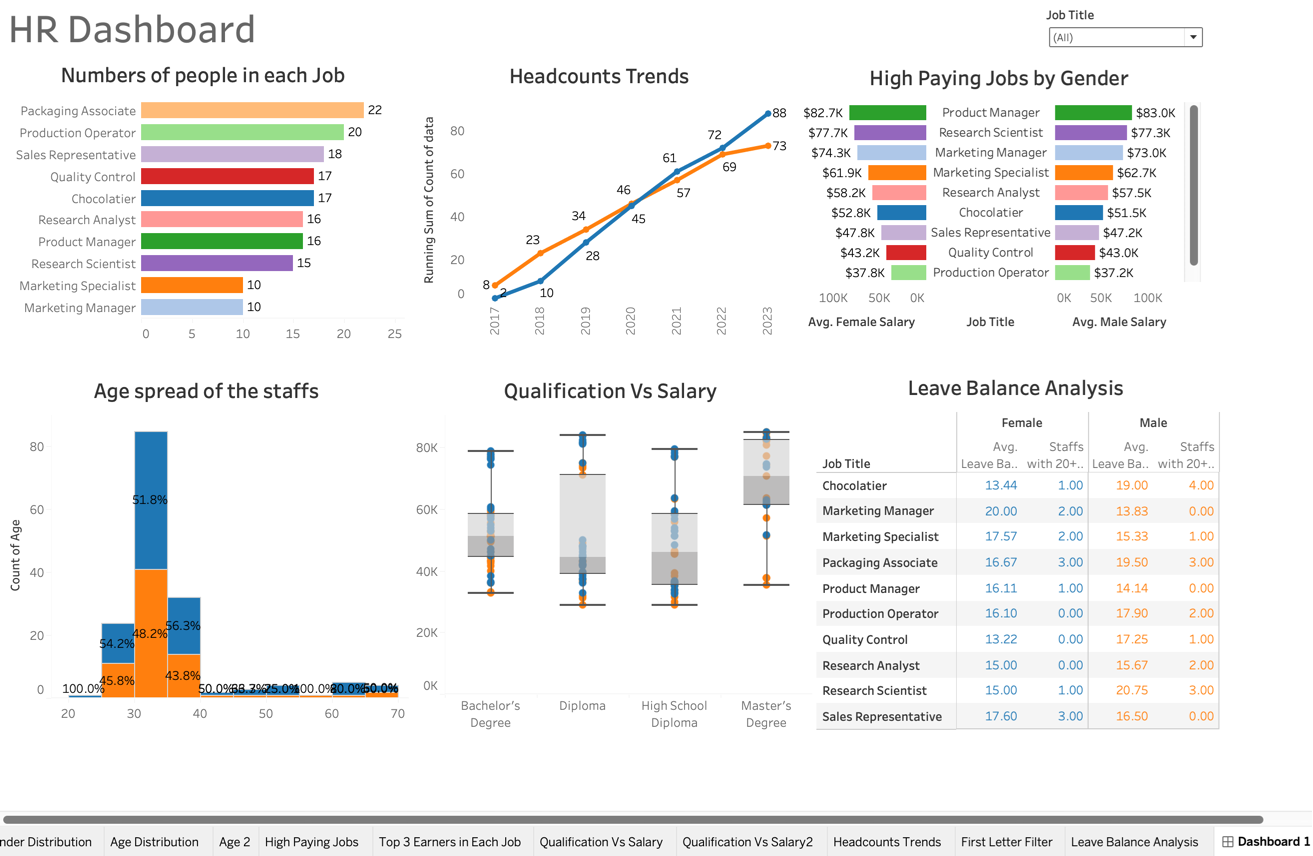

The page's visual inventory and layout, read from the dashboard file:
{"tool":"tableau","page":{"name":"Dashboard 1","canvas":[1600,900],"ordinal":0},"visuals":[{"type":"text","box":[5,2,807,56]},{"type":"filter","title":"# in each job","param":"[federated.0gq73kg0yulyes1d3sz5303nxn53].[none:Job Title:nk]","box":[1047,9,160,44]},{"type":"worksheet","title":"# in each job","mark":"Automatic","rows":["Job Title"],"cols":["data_B6D62A86685048F29078992767CA863A"],"box":[1,59,404,292]},{"type":"worksheet","title":"Headcounts Trends ","mark":"Automatic","rows":["data_B6D62A86685048F29078992767CA863A"],"cols":["Date of Join"],"box":[413,60,378,285]},{"type":"worksheet","title":"High Paying Jobs ","mark":"Automatic","rows":["Job Title"],"cols":["Calculation_5924977916750508033","Calculation_5924977916750884867","Calculation_5924977916750708738"],"box":[798,62,404,278]},{"type":"worksheet","title":"Leave Balance Analysis ","mark":"Automatic","rows":["Job Title"],"cols":["Gender"],"box":[817,372,404,361]},{"type":"worksheet","title":"Qualification Vs Salary2","mark":"Circle","rows":["Salary"],"cols":["Education Qualification"],"box":[409,375,404,362]}]}

Visuals, with their boxes on the page's 1600x900 design canvas (x1, y1, x2, y2). These are canvas units, not pixel positions in the 1313x856 screenshot, which may show the page scaled, cropped or inside an application window:
text: bbox=[5, 2, 812, 58]
"# in each job" filter: bbox=[1047, 9, 1207, 53]
"# in each job" worksheet: bbox=[1, 59, 405, 351]
"Headcounts Trends " worksheet: bbox=[413, 60, 791, 345]
"High Paying Jobs " worksheet: bbox=[798, 62, 1202, 340]
"Leave Balance Analysis " worksheet: bbox=[817, 372, 1221, 733]
"Qualification Vs Salary2" worksheet (Circle marks): bbox=[409, 375, 813, 737]
